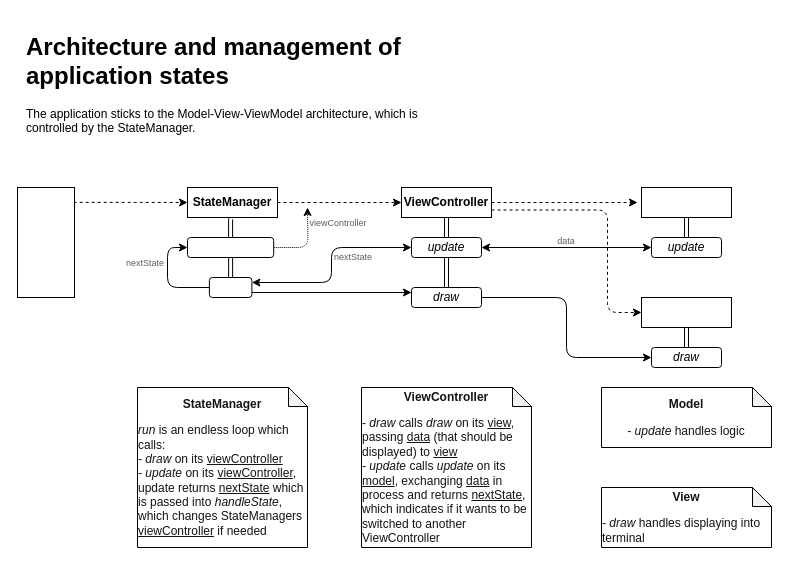
The diagram is 789 pixels wide and 574 high, and some of its shapes have lost their labels. Each missing label, with the centre of its shape:
"handleState" belongs at point 230,247.
"main" belongs at point 45,242.
"Model" belongs at point 686,202.
"run" belongs at point 230,287.
"View" belongs at point 686,312.
